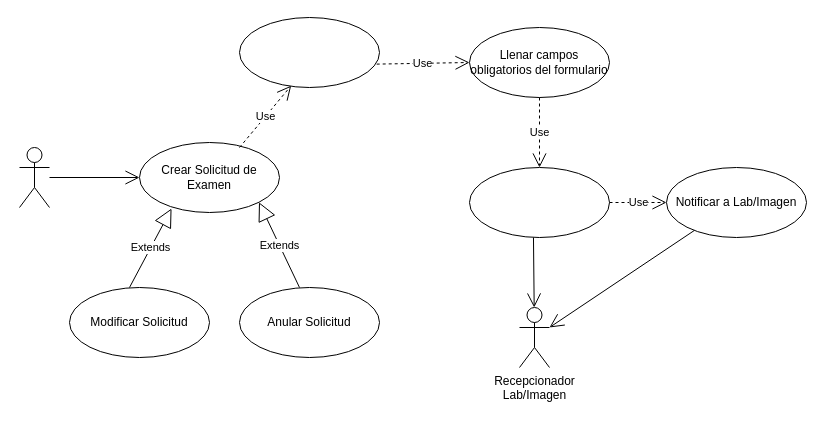
Image size: 824x421. Some labels were removed from this diagram. Here are the shapes that lost their labels. From the top down, the box of each, then its label:
(238, 16, 380, 88): Buscar Número de Expediente
(18, 146, 50, 208): Doctor
(468, 166, 610, 238): Enviar Solicitud de Examen
